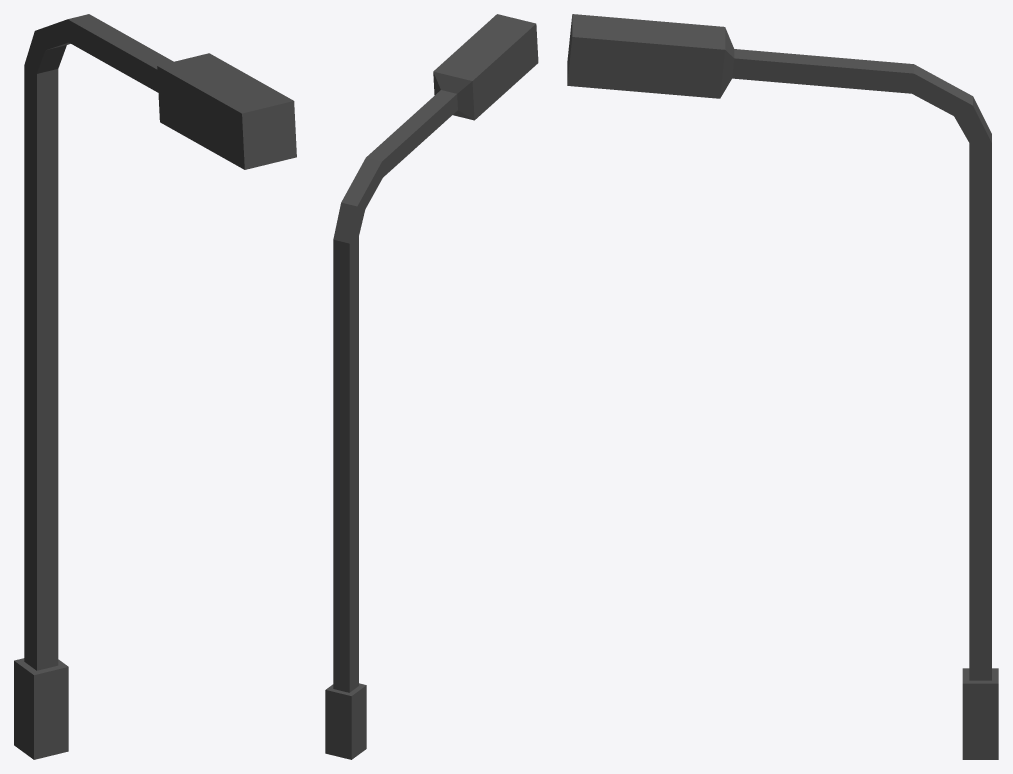
Rendered from lampe.fbx.
3 renders of one model, left to right at view 1: azimuth 30°, elevation 25°; view 2: azimuth 150°, elevation 25°; view 3: azimuth 270°, elevation 25°, orthographic. The views are drawn at different scales.
Parts seen in each view (by area): view 1: Cube.050; view 2: Cube.050; view 3: Cube.050.
Part boxes in pixels (x1,y1,x2,y2): Cube.050: (14,14,296,759); Cube.050: (325,14,538,759); Cube.050: (567,14,998,759).
Bounding box in the file's own units: 90.21 × 1334 × 717.
